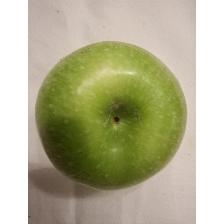Apfel: (34, 38, 188, 191)
